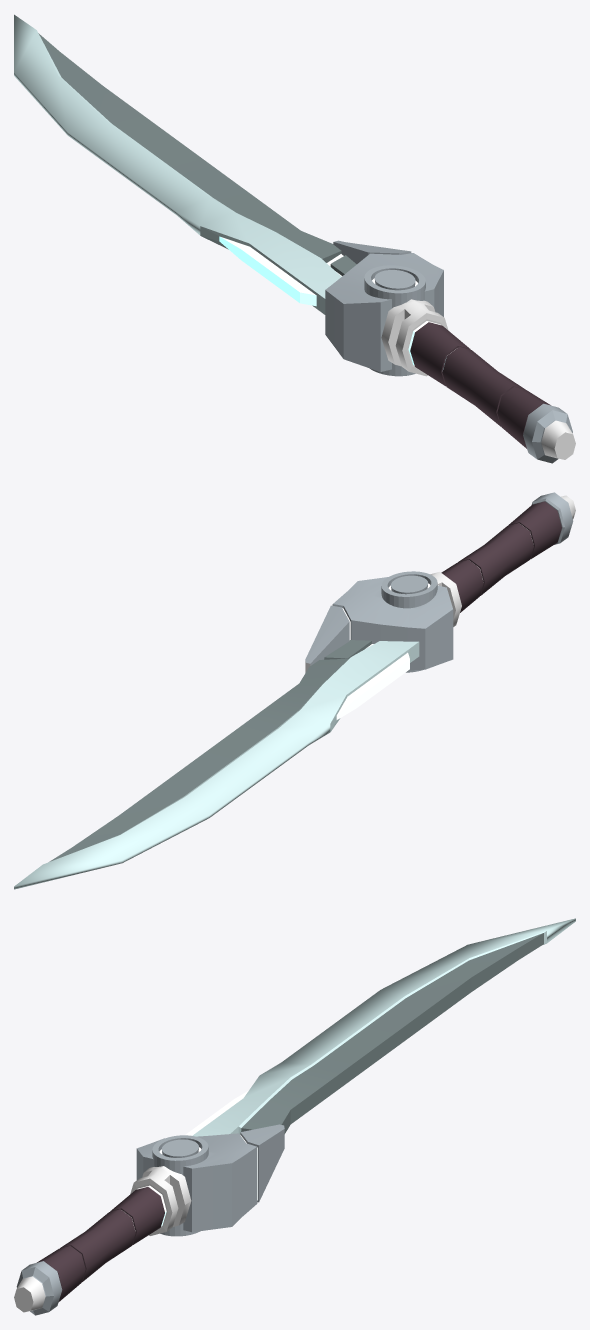
Rendered from VoidFang.fbx.
3 renders of one model, top to bottom at view 1: azimuth 30°, elevation 25°; view 2: azimuth 150°, elevation 25°; view 3: azimuth 330°, elevation 25°, orthographic. The views are drawn at different scales.
Parts seen in each view (by area): view 1: VoidFang; view 2: VoidFang; view 3: VoidFang.
Boxes of the visible parts, box(x1,y1,x2,y2) form: VoidFang: box(14, 14, 575, 463); VoidFang: box(14, 492, 575, 889); VoidFang: box(14, 918, 575, 1315).
Size of the model in its own units: 0.16 by 0.119 by 1.5.
